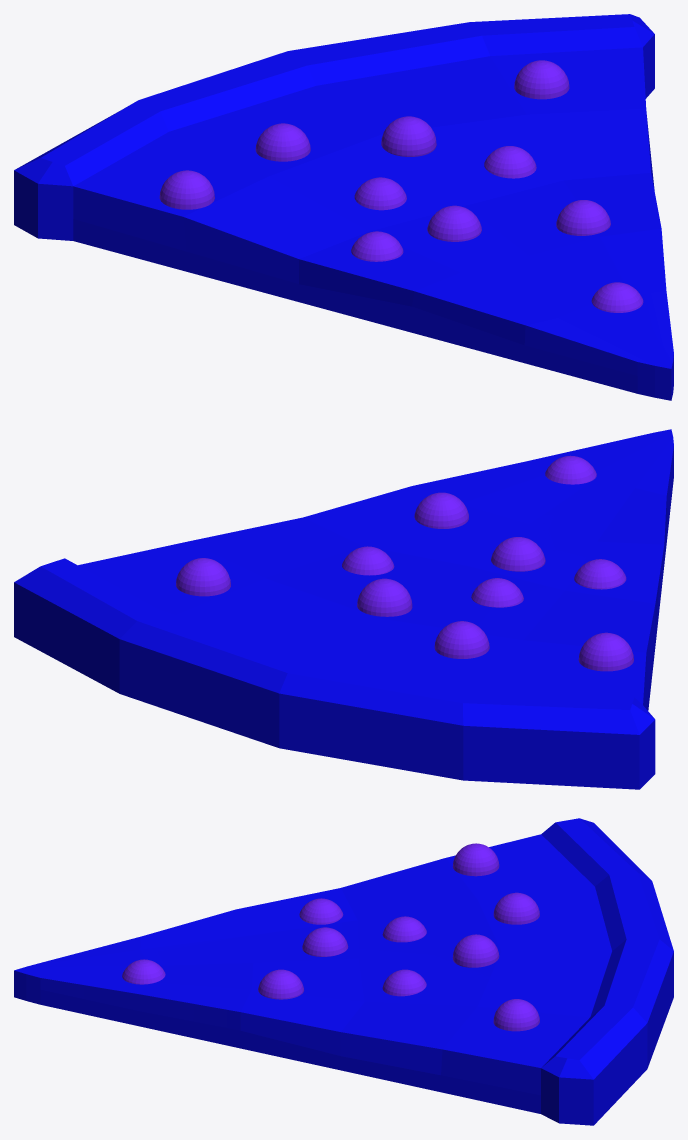
Rendered from BlueSlice.fbx.
3 renders of one model, top to bottom at view 1: azimuth 30°, elevation 25°; view 2: azimuth 150°, elevation 25°; view 3: azimuth 270°, elevation 25°, orthographic. The views are drawn at different scales.
Parts seen in each view (by area): view 1: Pizza_Slice; view 2: Pizza_Slice; view 3: Pizza_Slice.
Boxes of the visible parts, x1,y1,x2,y2 form: Pizza_Slice: [14, 14, 673, 400]; Pizza_Slice: [14, 429, 673, 789]; Pizza_Slice: [14, 818, 673, 1125].
Bounding box in the file's own units: 107 × 12.77 × 116.
